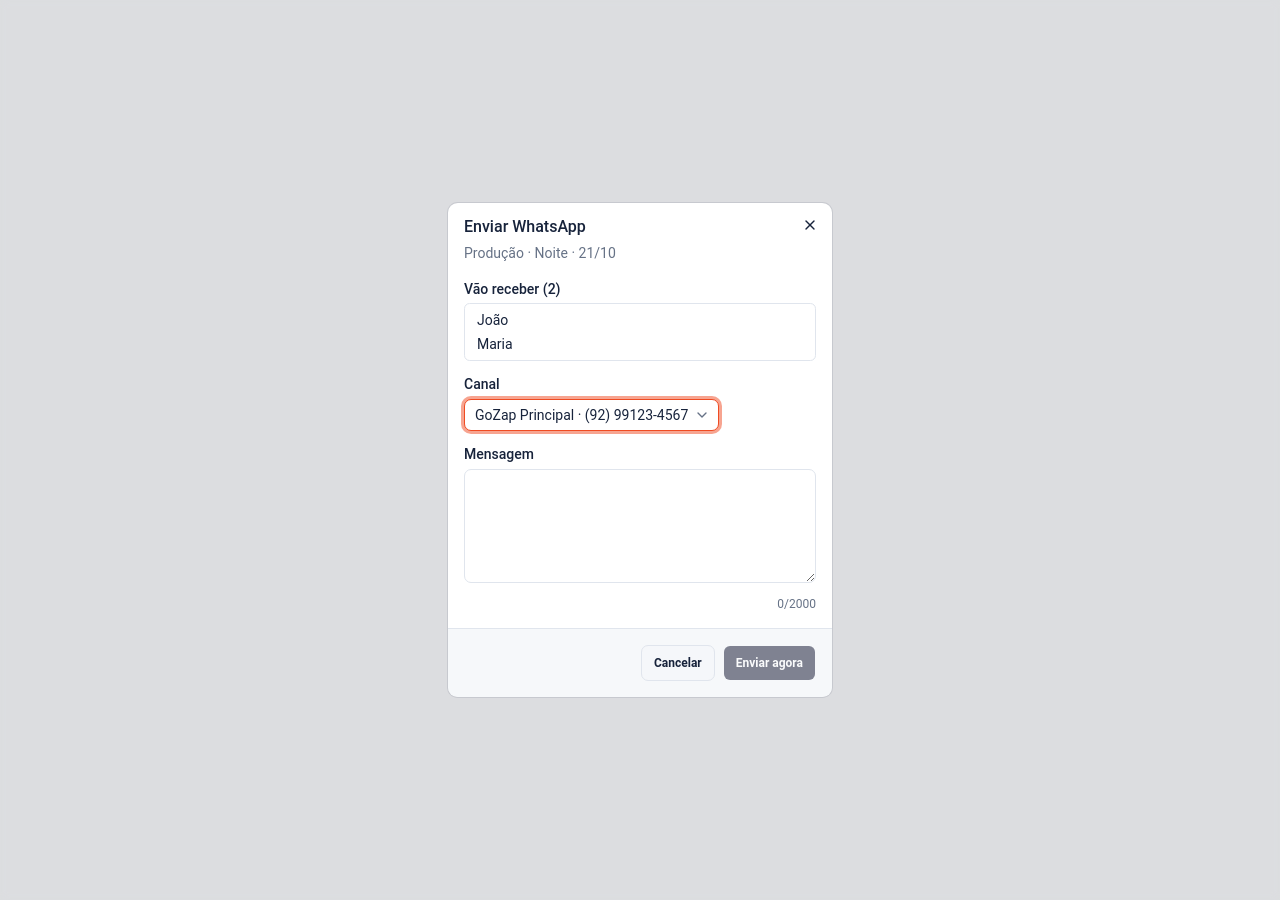
Scenario: SendWhatsappDialog: nomes › seleção inválida (422) mostra que a lista mudou e não fecha
In the text box: [640, 526] box x1=464 y1=469 x2=816 y2=583, type "Oi equipe"
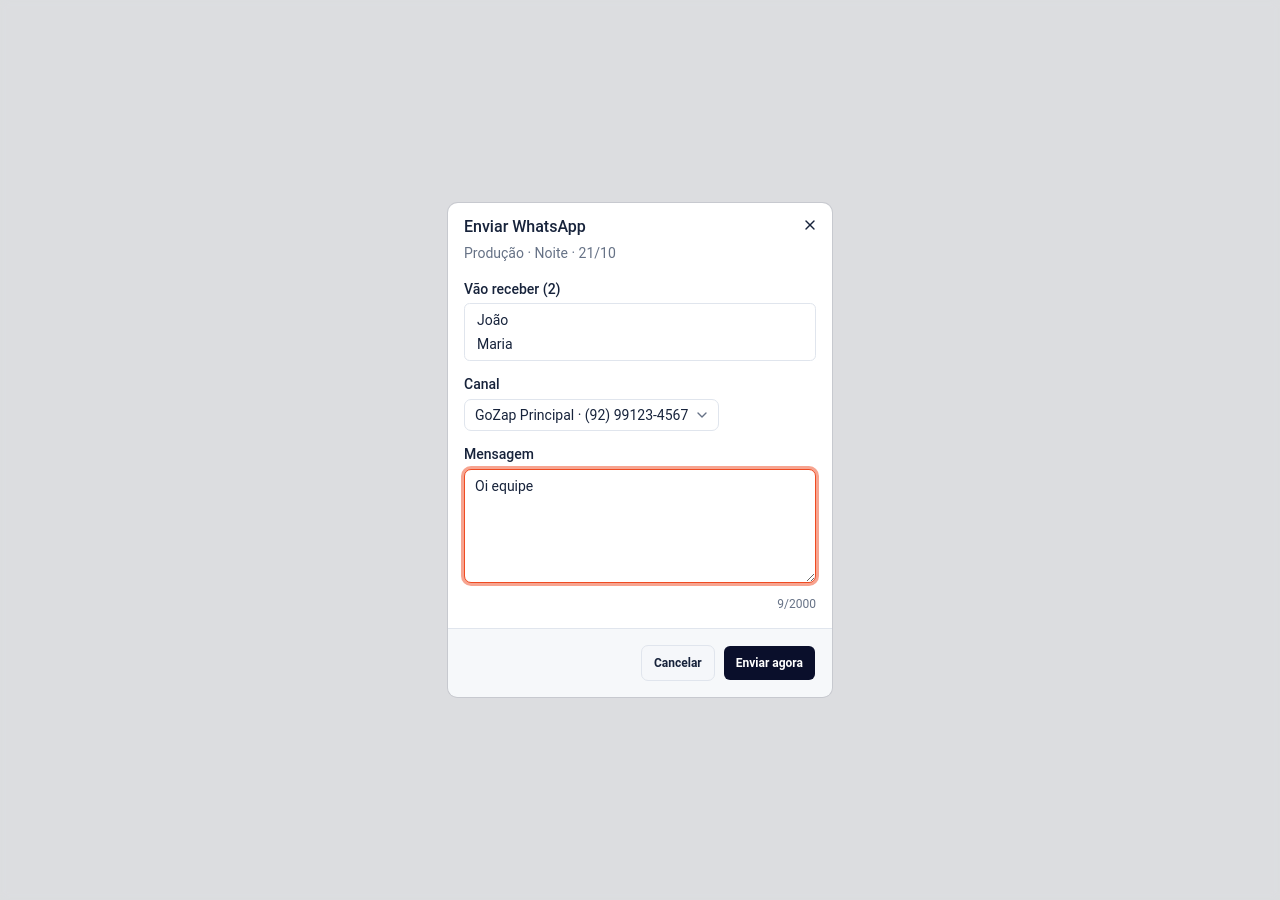
Click the button "Enviar agora": [769, 663] box x1=723 y1=645 x2=816 y2=681
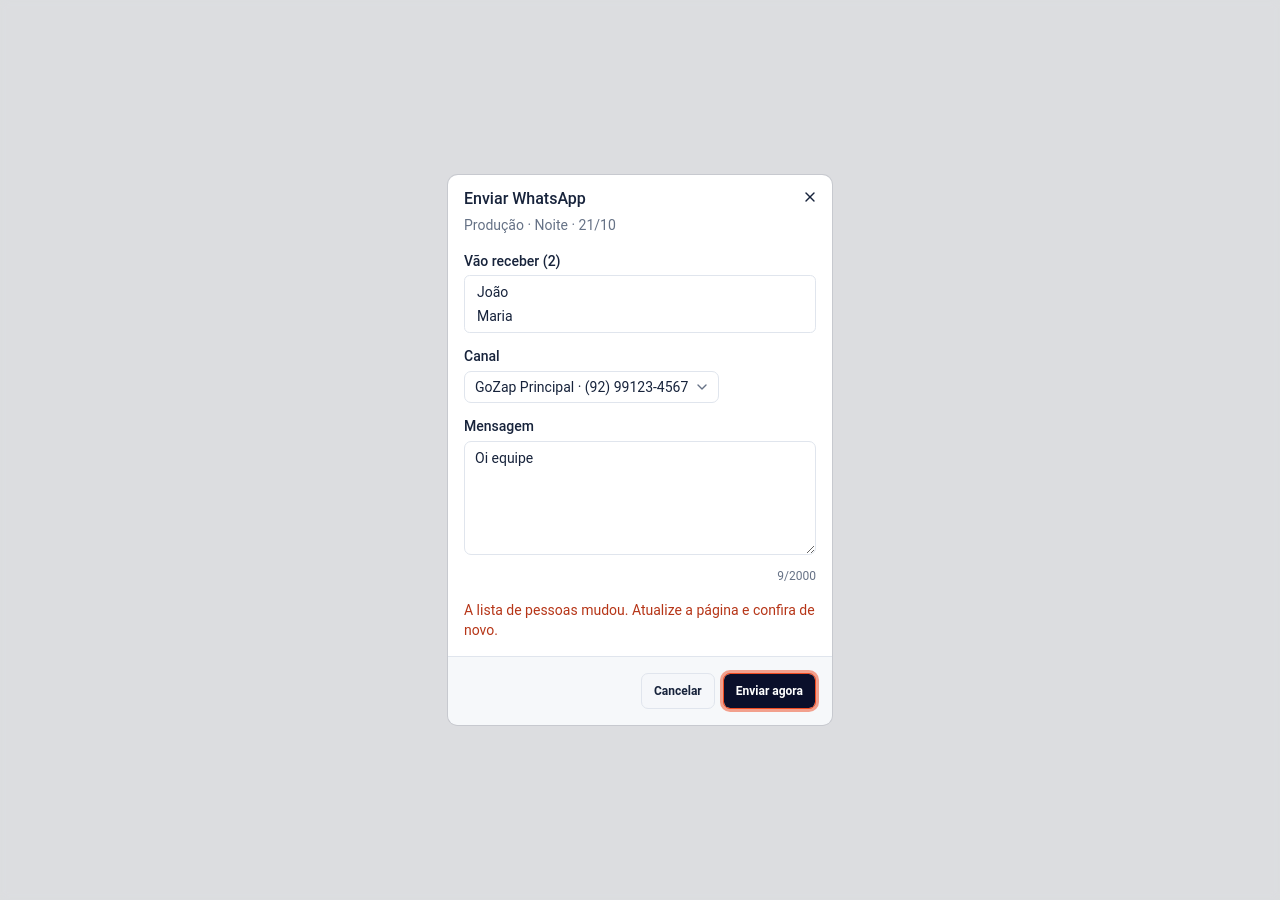
Expected: the message reads "A lista de pessoas mudou. Atualize a página e confira de novo.", x1=464 y1=602 x2=815 y2=638
